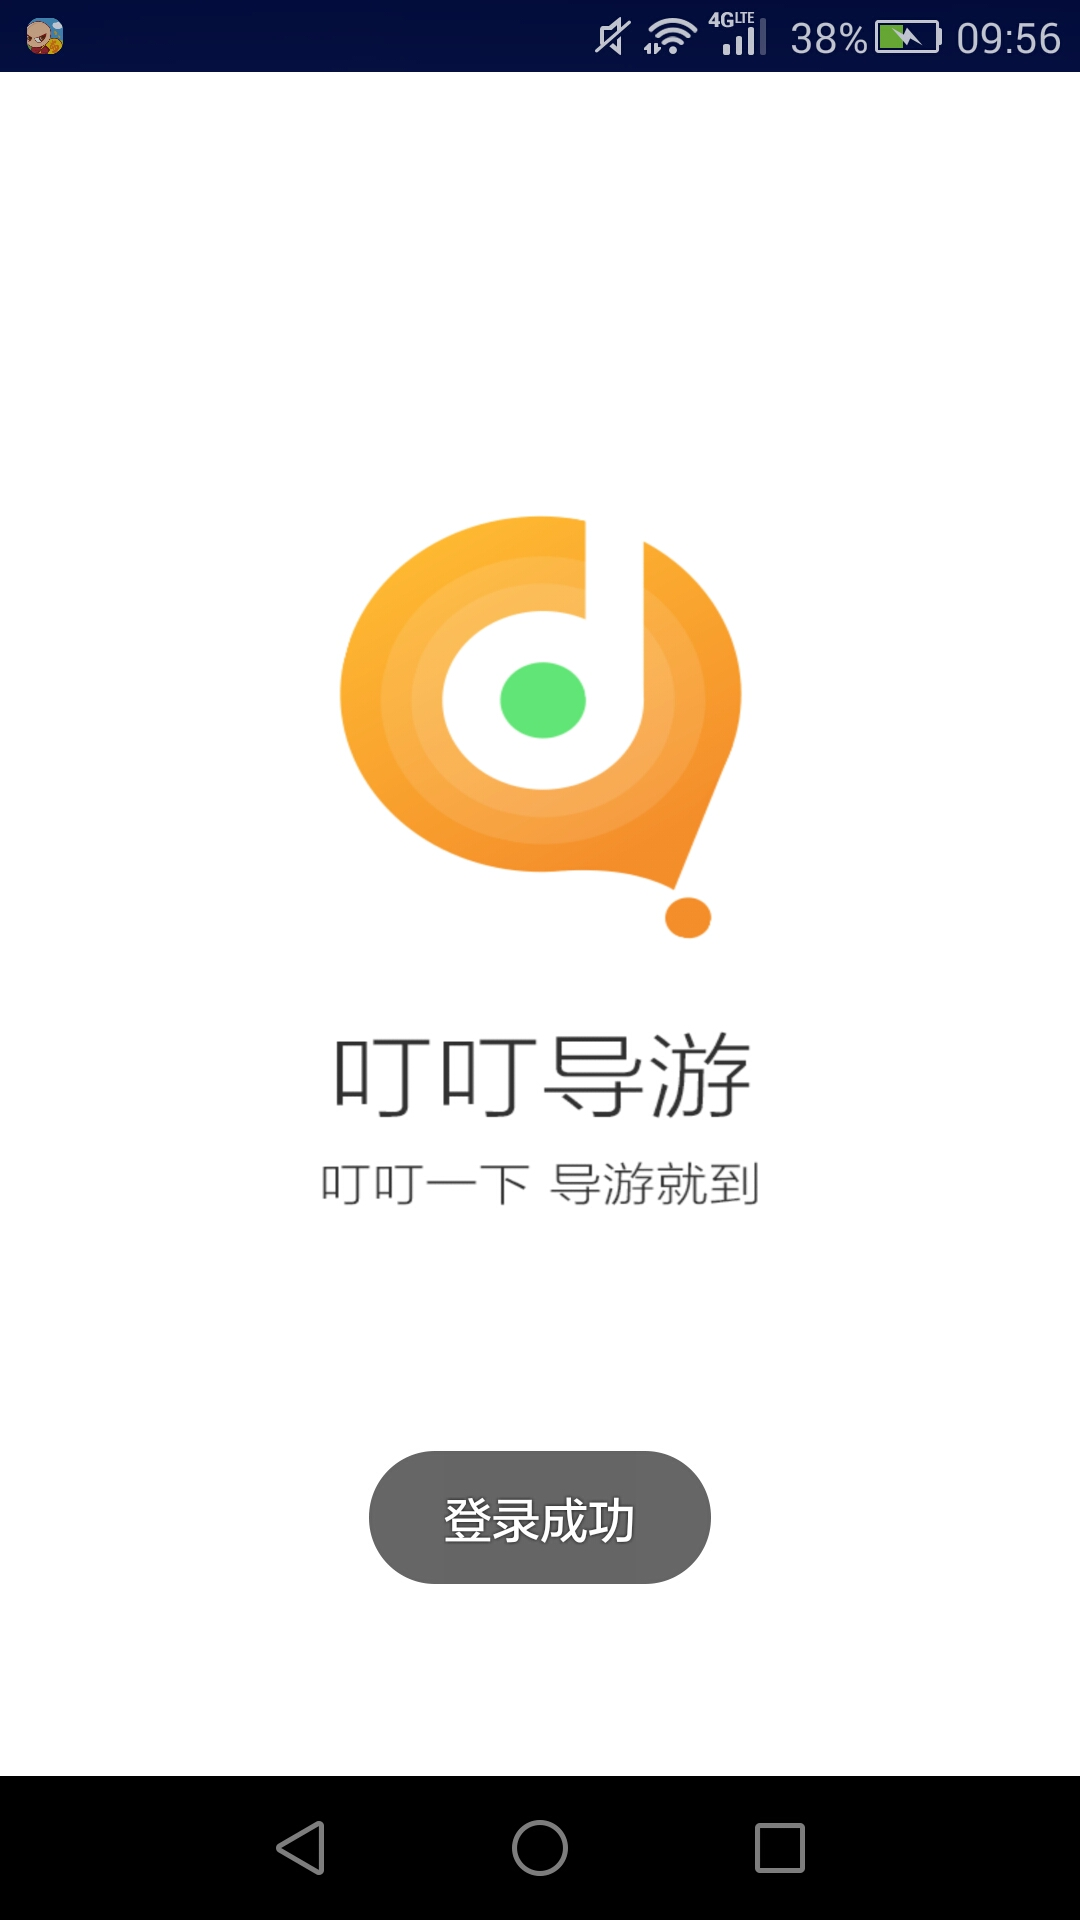alert: (363, 1439, 717, 1590)
imgview: (309, 491, 761, 980)
